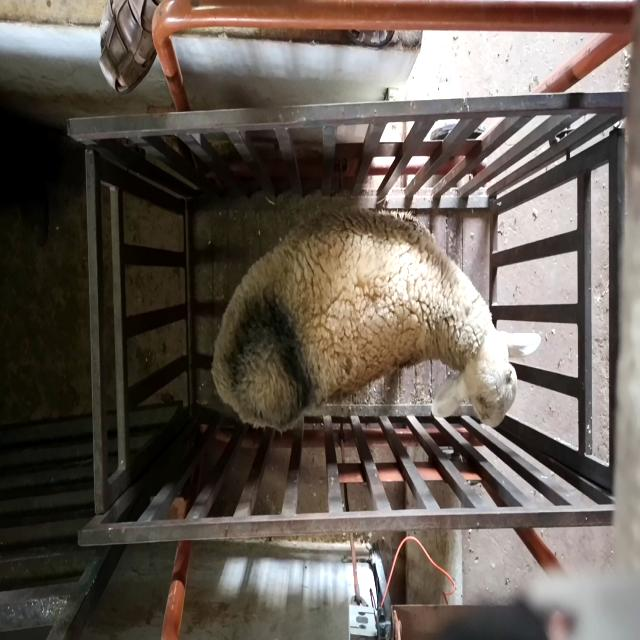sheep: (210, 207, 542, 432)
